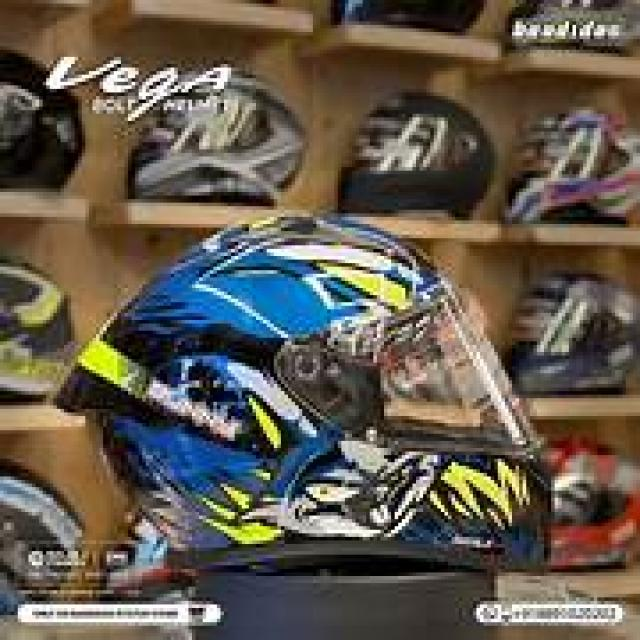helmet: (341, 92, 491, 213)
